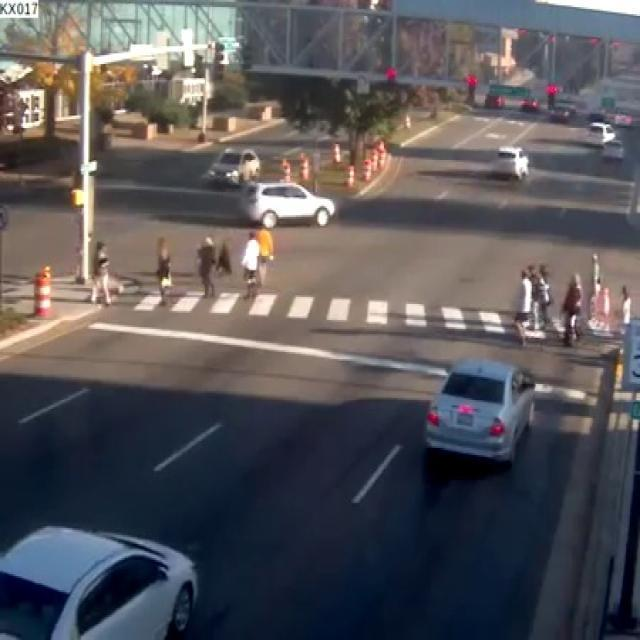car: (0, 525, 196, 637), (426, 360, 532, 458), (240, 181, 333, 225), (202, 146, 258, 183), (490, 145, 527, 177)
red_light: (546, 83, 558, 115), (465, 75, 477, 100), (388, 66, 397, 87)
stop_line: (84, 317, 445, 376), (533, 379, 588, 404)
